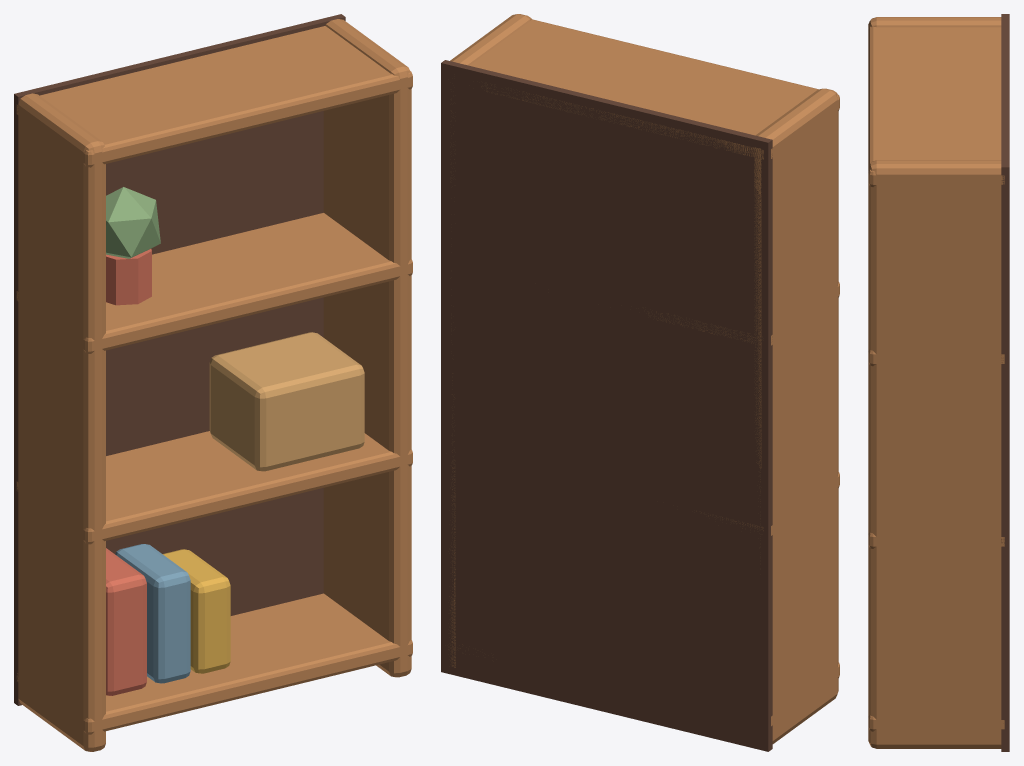
File: shelf.glb
3 views of the same model, side by side, from view 1: azimuth 30°, elevation 25°; view 2: azimuth 150°, elevation 25°; view 3: azimuth 270°, elevation 25° (orthographic). The views are drawn at different scales.
Parts seen in each view (by area): view 1: shelf; view 2: shelf; view 3: shelf.
Part boxes in pixels (box(x1,y1,x2,y2)): shelf: box(14, 14, 412, 751); shelf: box(441, 14, 839, 751); shelf: box(868, 14, 1009, 751).
Bounding box in the file's own units: 0.9 × 1.6 × 0.35.
